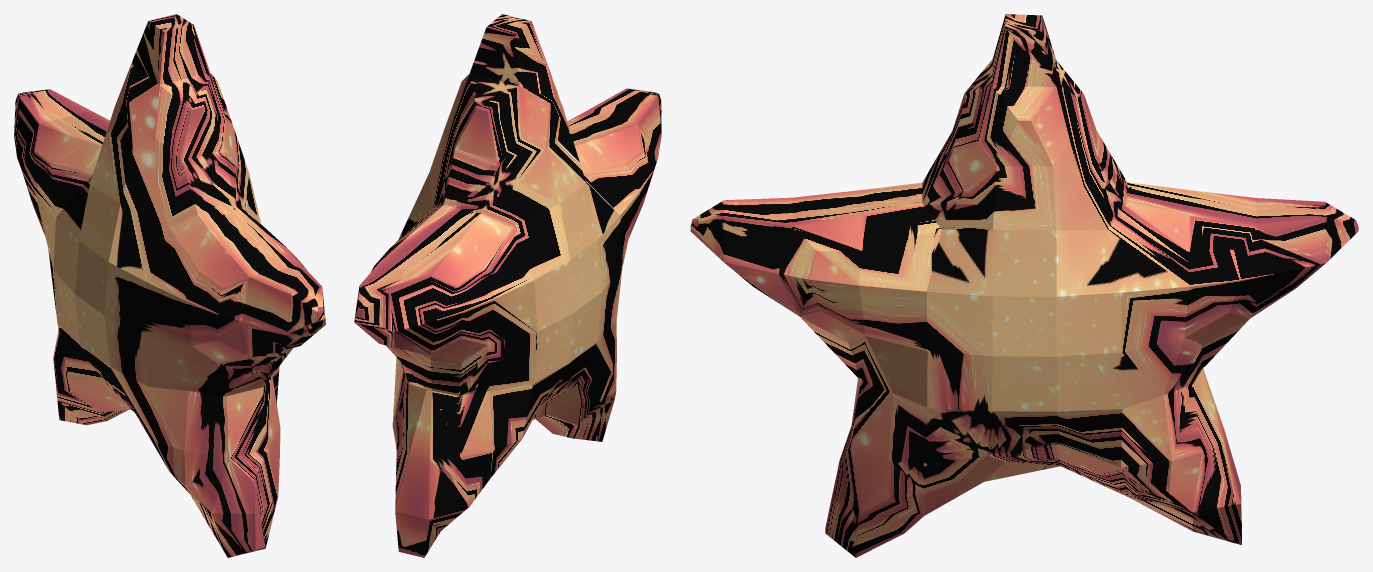
File: super_coin.glb
The picture shows the model from 3 angles, left to right: view 1: azimuth 30°, elevation 25°; view 2: azimuth 150°, elevation 25°; view 3: azimuth 270°, elevation 25°; orthographic projection. The views are drawn at different scales.
Visible parts, largest first — view 1: tripo_node_cd252f20-2e56-4690-be65-34299fdae03e; view 2: tripo_node_cd252f20-2e56-4690-be65-34299fdae03e; view 3: tripo_node_cd252f20-2e56-4690-be65-34299fdae03e.
Boxes of the visible parts, x1,y1,x2,y2 form: tripo_node_cd252f20-2e56-4690-be65-34299fdae03e: (14, 14, 325, 557); tripo_node_cd252f20-2e56-4690-be65-34299fdae03e: (354, 14, 661, 557); tripo_node_cd252f20-2e56-4690-be65-34299fdae03e: (690, 14, 1358, 557).
Size of the model in its own units: 0.3093 by 0.8655 by 0.9966.
1 material, 1 textured.
